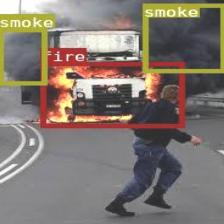fire: (40, 61, 184, 127)
smoke: (141, 4, 224, 72), (0, 28, 45, 84)
